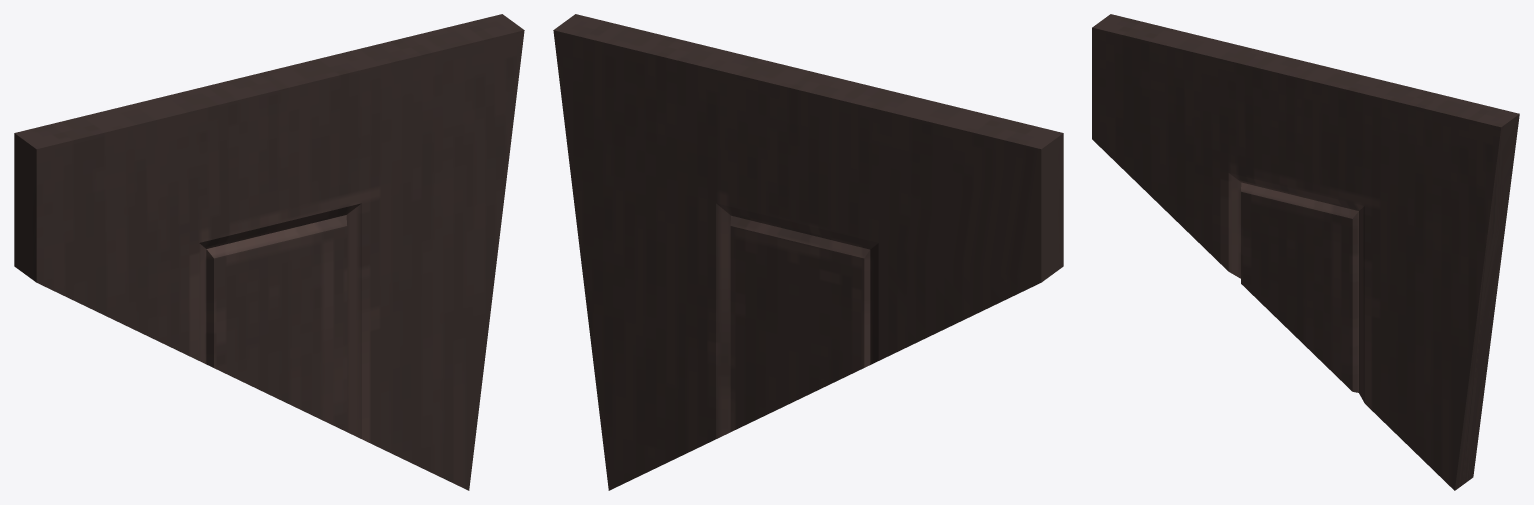
Rendered from damaged_door_part1.fbx.
3 views of the same model, side by side, from view 1: azimuth 30°, elevation 25°; view 2: azimuth 150°, elevation 25°; view 3: azimuth 330°, elevation 25° (orthographic). The views are drawn at different scales.
Visible parts, largest first — view 1: damaged_door_part1; view 2: damaged_door_part1; view 3: damaged_door_part1.
Boxes of the visible parts, <box> form: damaged_door_part1: <box>14,14,524,490</box>; damaged_door_part1: <box>553,14,1063,490</box>; damaged_door_part1: <box>1092,14,1519,490</box>.
Bounding box in the file's own units: 1.2 × 1.05 × 0.0944.
